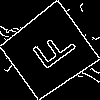F: (24, 26, 78, 78)
